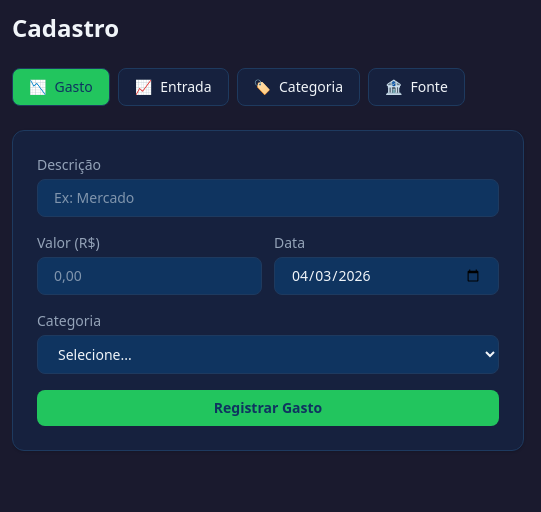
Test: PaginaCadastro › registra uma entrada com sucesso
# Na aba gasto, só existe um botão com "entrada" — a aba
Click the button "📈 Entrada".
click(173, 87)  # box [118,68,229,106]
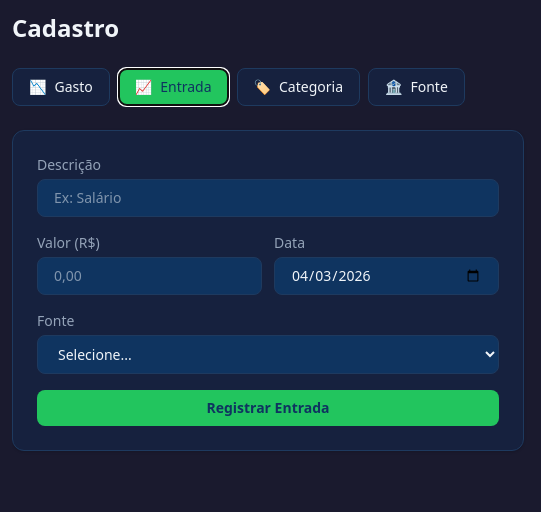
Result: the button "Registrar Entrada" is shown at [37,390,499,426]
Type "Salário" into the field labelled "Descrição".
click(268, 198); type("Salário")  # box [37,179,499,217]
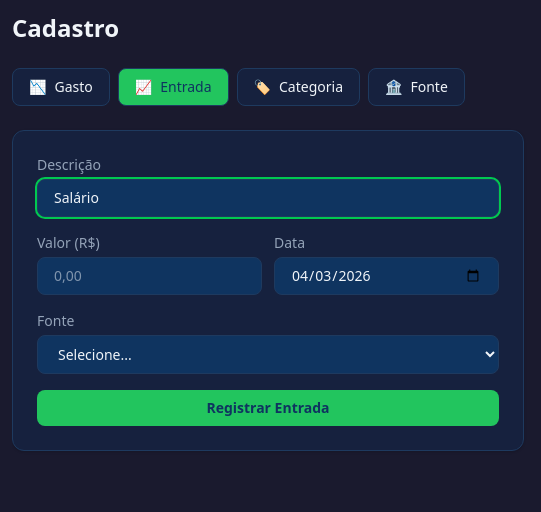
Type "3000" into the number field labelled "Valor (R$)".
click(150, 276); type("3000")  # box [37,257,262,295]
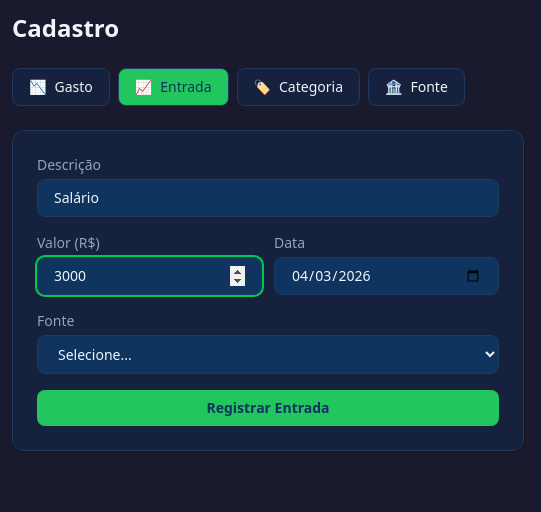
Select "Nubank" in the dropdown labelled "Fonte" at (268, 354), box [37,335,499,374]
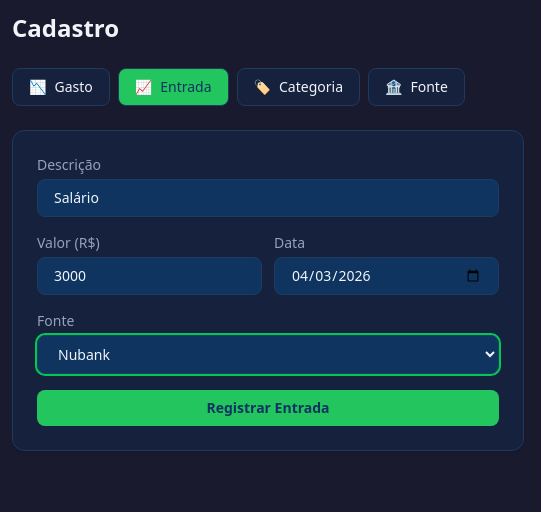
Click the button "Registrar Entrada".
click(268, 408)  # box [37,390,499,426]
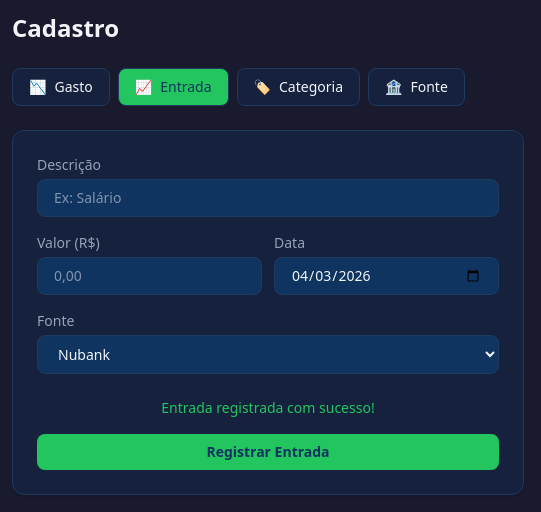
Result: the text "Entrada registrada com sucesso!" is shown at [161,398,375,417]
